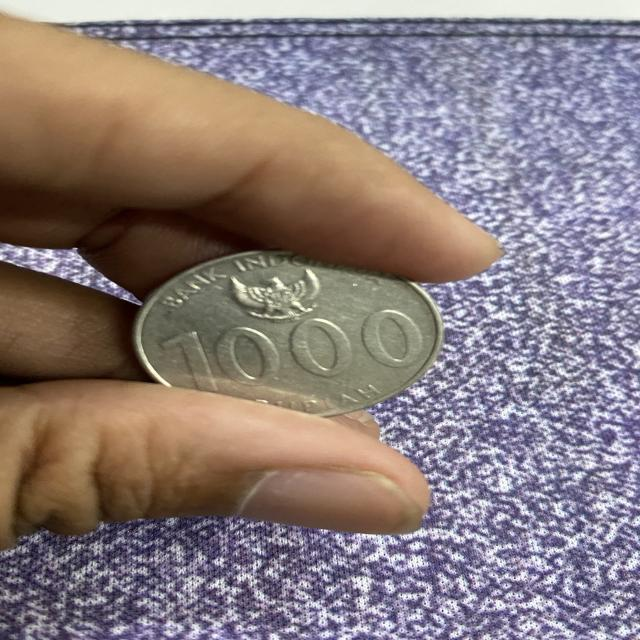1000-angklung: (126, 240, 458, 443)
